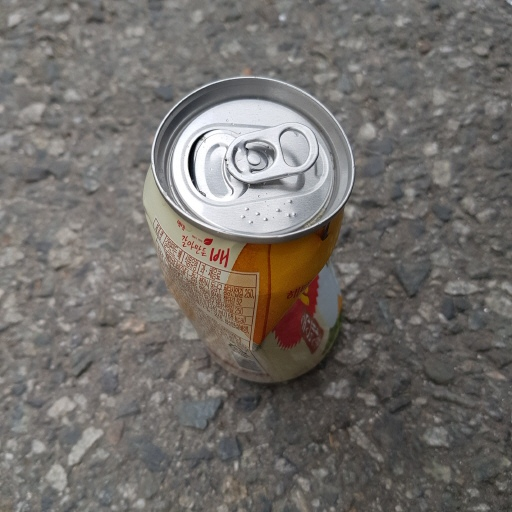Metal_0: (139, 70, 355, 388)
